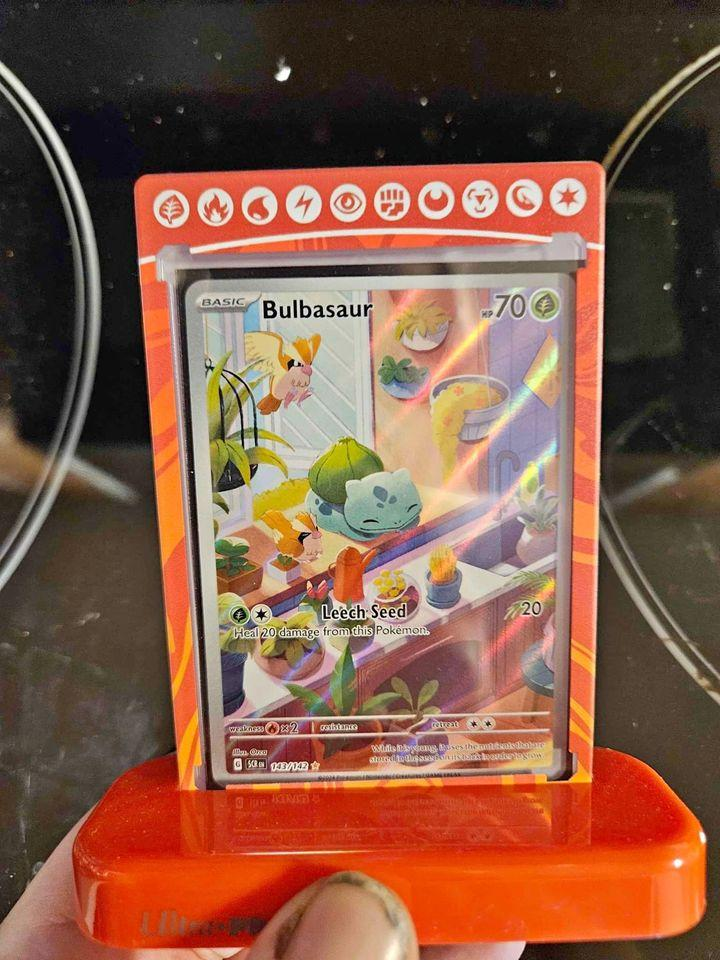card: (185, 272, 577, 790)
name: (260, 296, 380, 324)
set num: (268, 760, 310, 772)
set symbol: (246, 758, 267, 770)
